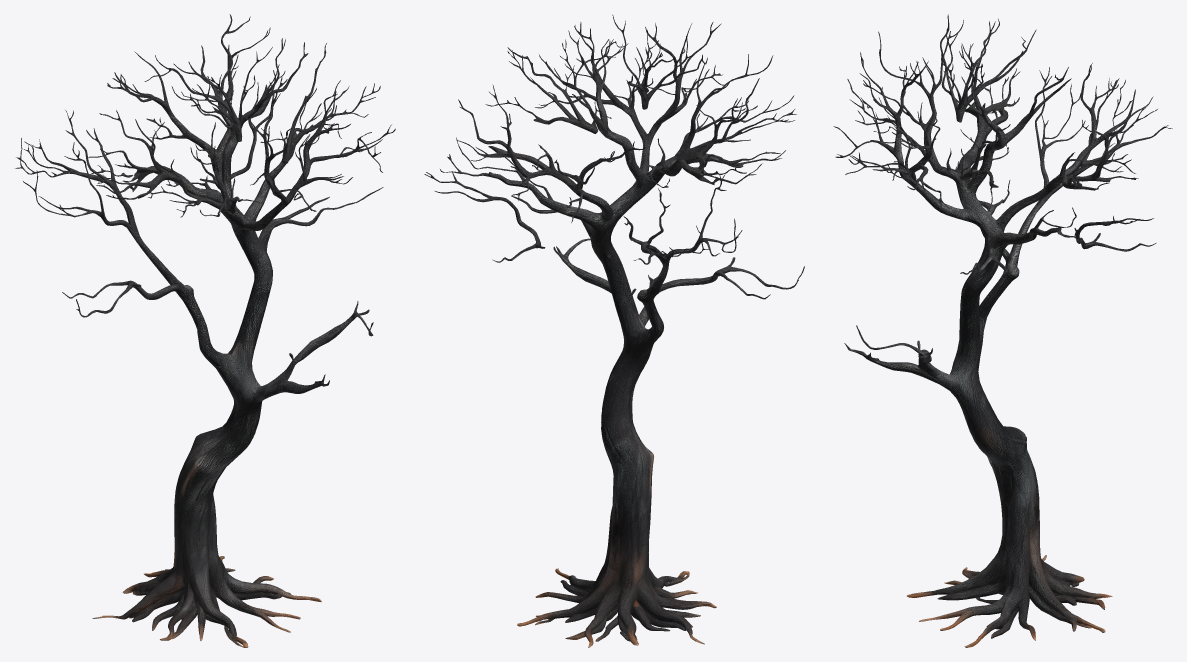
The picture shows the model from 3 angles, left to right: view 1: azimuth 30°, elevation 25°; view 2: azimuth 150°, elevation 25°; view 3: azimuth 270°, elevation 25°; orthographic projection.
Bounding box in the file's own units: 1.07 × 1.9 × 1.02.
Materials: 1 (1 with a texture image).
